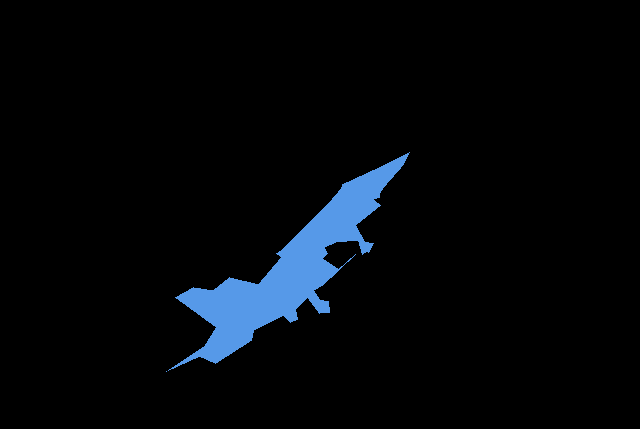Airplane: (166, 152, 410, 372)
